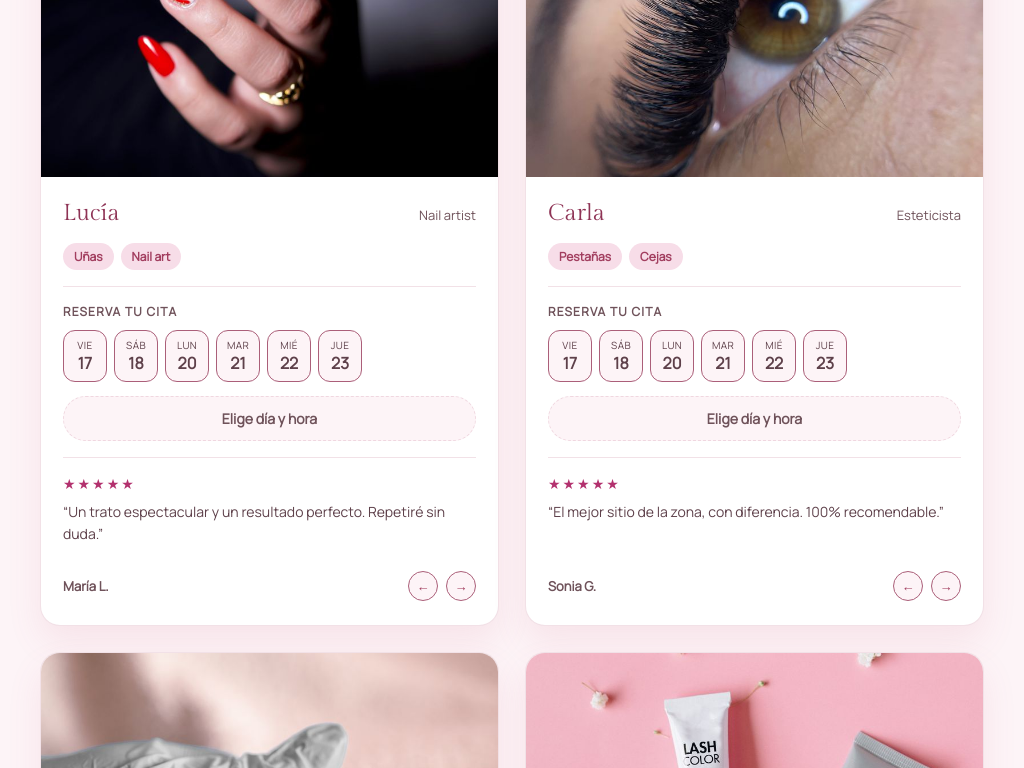
Test: @s16 con día y hora el botón se habilita y su etiqueta nombra la cita › @s16 tras elegir mié 22 + 16:00 el botón NO está disabled y dice "Reservar · mié 22 · 16:00"
(page scrolled)
Click the button "mié 22" below "Lucía": (289, 356) [267,330,311,382]
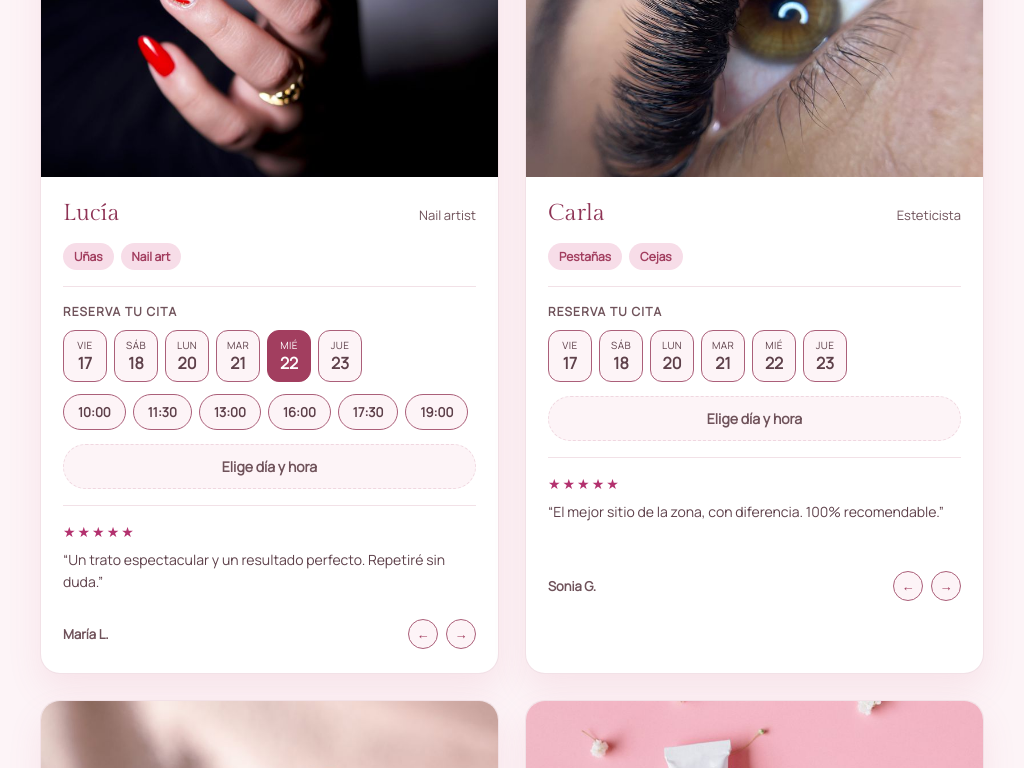
Click the button "16:00": (299, 412) [268,394,331,430]
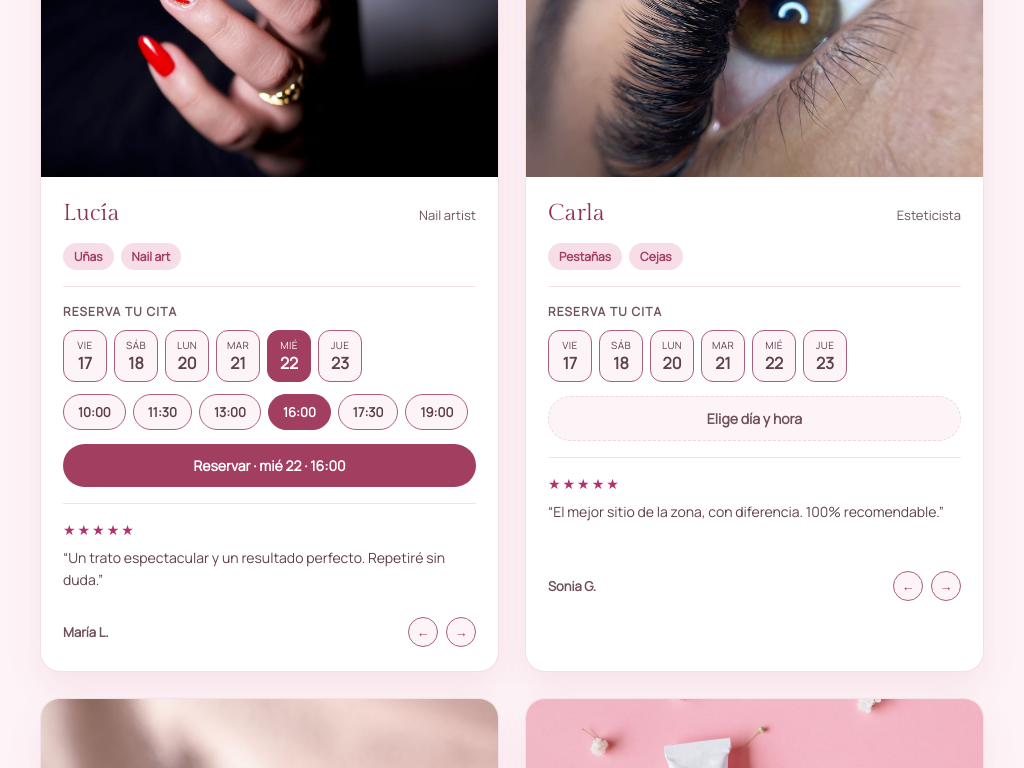
Now the button "Reservar · mié 22 · 16:00" is enabled, box [63,444,476,487]
Now the button "Reservar · mié 22 · 16:00" is shown, box [63,444,476,487]
